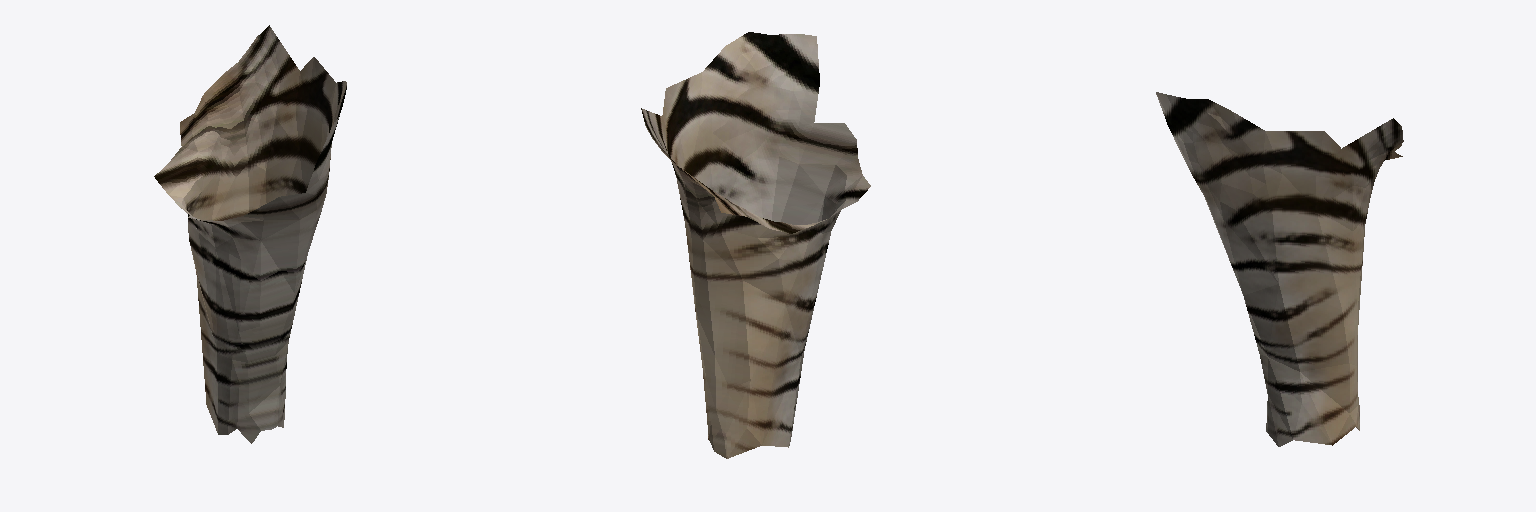
The picture shows the model from 3 angles: view 1: azimuth 30°, elevation 25°; view 2: azimuth 150°, elevation 25°; view 3: azimuth 270°, elevation 25°; orthographic projection.
Parts seen in each view (by area): view 1: PFI; view 2: PFI; view 3: PFI.
Part boxes in pixels (bbox=[...]): PFI: bbox=[154, 25, 346, 443]; PFI: bbox=[641, 32, 870, 458]; PFI: bbox=[1156, 92, 1403, 446].
Bounding box in the file's own units: 0.2328 × 0.5115 × 0.3137.
Materials: 1 (1 with a texture image).